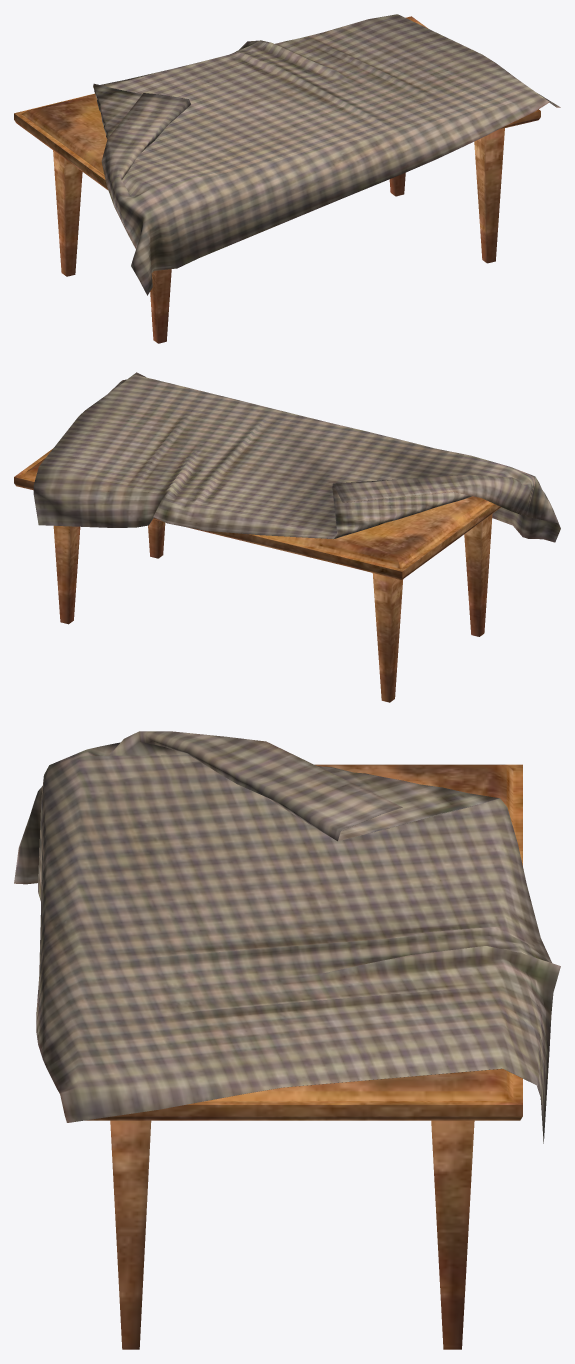
Rendered from diningTable.glb.
The picture shows the model from 3 angles, top to bottom: view 1: azimuth 30°, elevation 25°; view 2: azimuth 150°, elevation 25°; view 3: azimuth 270°, elevation 25°; orthographic projection. The views are drawn at different scales.
Parts seen in each view (by area): view 1: dining_table_cloth, dining_table; view 2: dining_table_cloth, dining_table; view 3: dining_table_cloth, dining_table.
Part boxes in pixels (x1,y1,x2,y2): dining_table_cloth: (93, 14, 560, 295); dining_table: (14, 16, 540, 343); dining_table_cloth: (33, 372, 560, 542); dining_table: (14, 448, 501, 702); dining_table_cloth: (14, 731, 560, 1143); dining_table: (85, 764, 522, 1349).
Size of the model in its own units: 2.26 by 0.877 by 1.39.
1 material, 1 textured.
